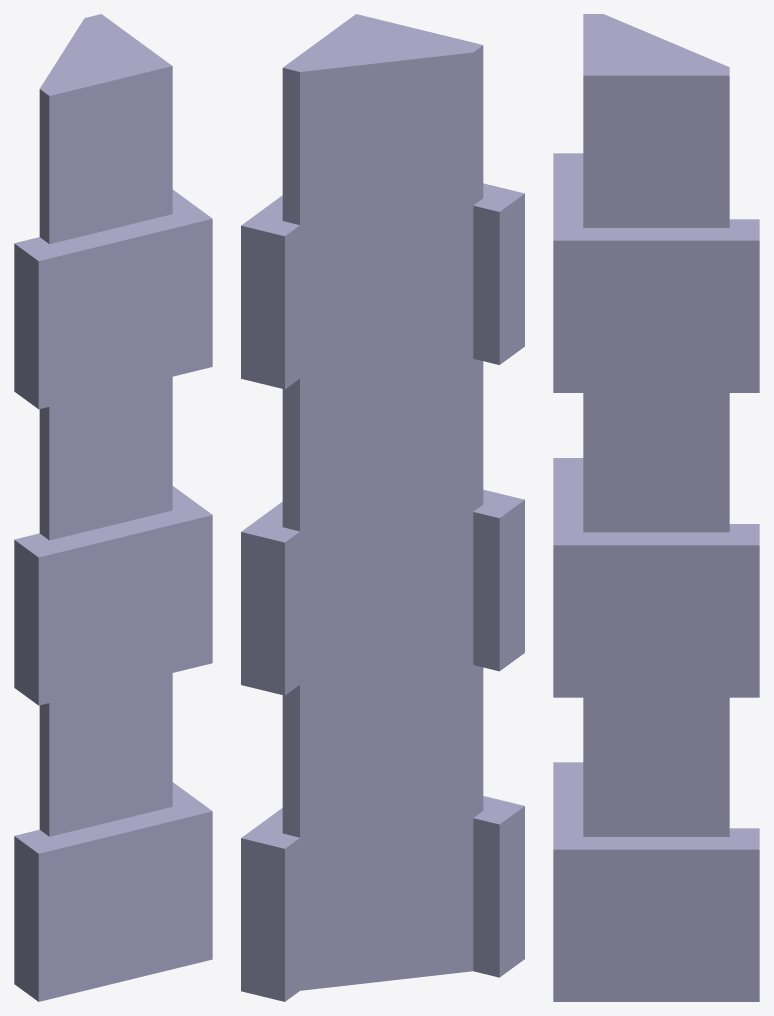
The model's file is quoin_normal.fbx.
3 views of the same model, side by side, from view 1: azimuth 30°, elevation 25°; view 2: azimuth 150°, elevation 25°; view 3: azimuth 270°, elevation 25° (orthographic). The views are drawn at different scales.
Visible parts, largest first — view 1: quoin_normal; view 2: quoin_normal; view 3: quoin_normal.
Boxes of the visible parts, x1,y1,x2,y2 form: quoin_normal: (14, 14, 212, 1001); quoin_normal: (241, 14, 524, 1001); quoin_normal: (553, 14, 759, 1001).
Size of the model in its own units: 2.05 by 10 by 2.05.
